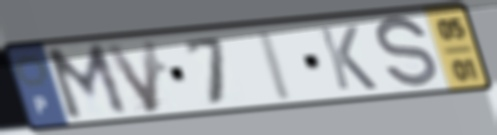7: (181, 34, 232, 107)
I: (253, 27, 297, 104)
K: (315, 24, 381, 93)
M: (41, 40, 133, 124)
S: (373, 13, 440, 94)
V: (100, 36, 161, 116)
